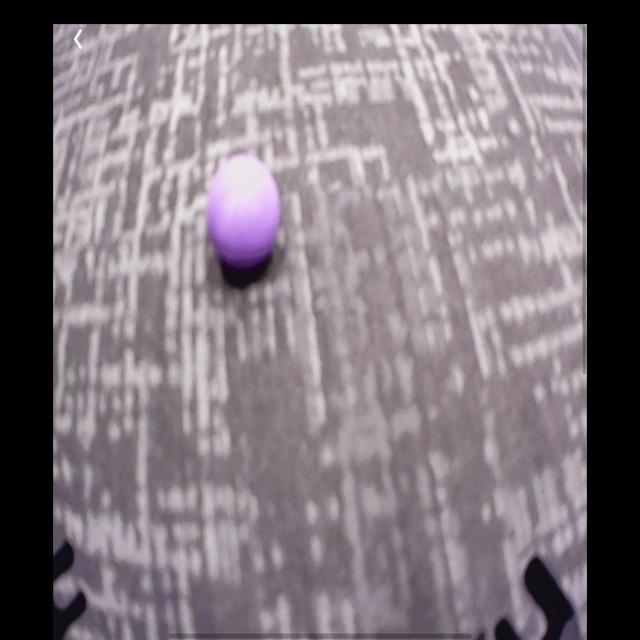ball: (209, 156, 282, 269)
